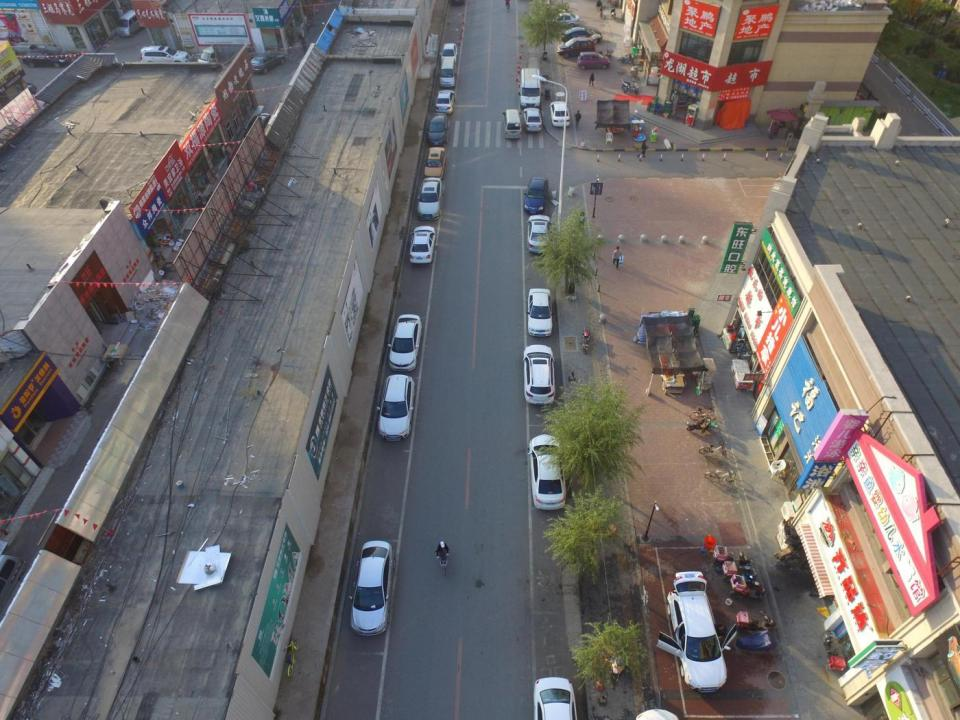car: (656, 569, 738, 694), (347, 539, 396, 638), (527, 433, 567, 511), (375, 372, 415, 443), (530, 674, 578, 720), (522, 343, 556, 406), (387, 313, 422, 373), (526, 288, 554, 338), (416, 176, 444, 221), (138, 44, 192, 67), (21, 46, 72, 69), (408, 225, 436, 264), (526, 215, 552, 255), (522, 175, 548, 214), (557, 34, 595, 60), (248, 49, 286, 74), (425, 111, 448, 147), (422, 146, 446, 180), (560, 26, 602, 44), (577, 50, 610, 70), (544, 10, 580, 28), (548, 100, 570, 128), (434, 89, 455, 115), (523, 106, 543, 133), (439, 43, 458, 62)
van: (116, 4, 148, 38), (197, 41, 239, 64), (519, 67, 541, 109), (502, 108, 522, 140), (438, 56, 457, 88)
